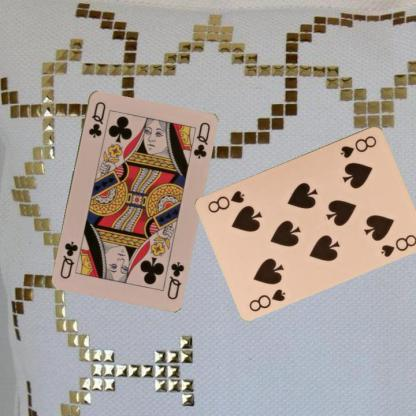8s: (337, 132, 378, 160), (247, 286, 287, 312)
Qc: (164, 259, 186, 300), (85, 98, 107, 138)
